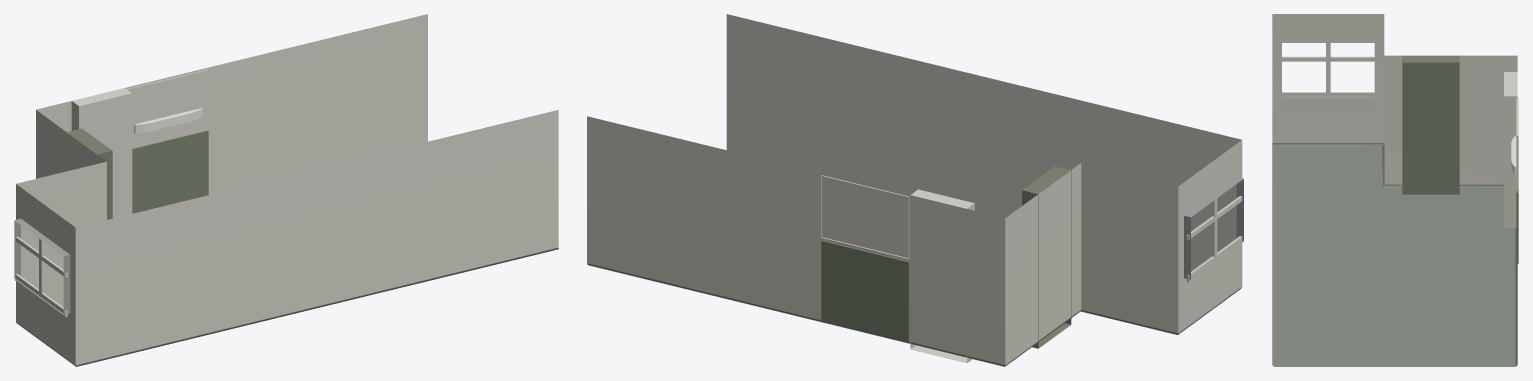
Rendered from Room.fbx.
3 views of the same model, side by side, from view 1: azimuth 30°, elevation 25°; view 2: azimuth 150°, elevation 25°; view 3: azimuth 270°, elevation 25° (orthographic). The views are drawn at different scales.
Parts seen in each view (by area): view 1: room; view 2: room; view 3: room.
Boxes of the visible parts, x1,y1,x2,y2 form: room: (14,14,558,366); room: (587,14,1243,366); room: (1272,14,1518,366).
Size of the model in its own units: 1610 by 455 by 748.
